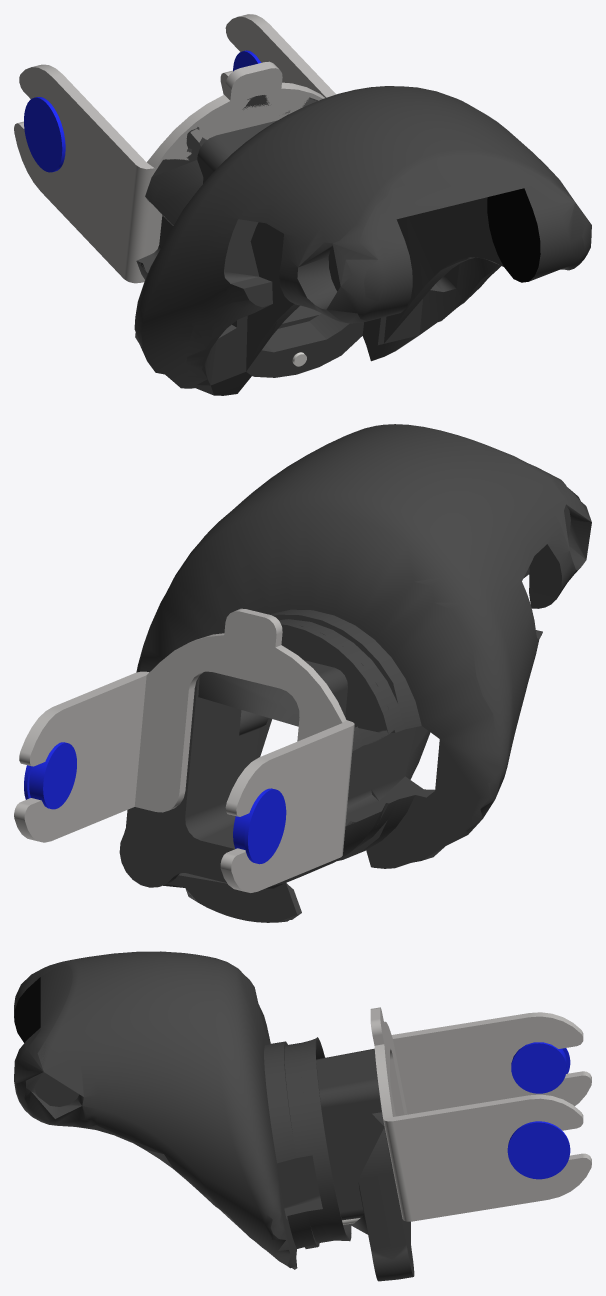
The model's file is r_shoulder_link.dae.
The picture shows the model from 3 angles, top to bottom: view 1: azimuth 30°, elevation 25°; view 2: azimuth 150°, elevation 25°; view 3: azimuth 270°, elevation 25°; orthographic projection. The views are drawn at different scales.
Parts seen in each view (by area): view 1: FBXASC227FBXASC130FBXASC189FBXASC227FBXASC131FBXASC170FBXASC (×4); view 2: FBXASC227FBXASC130FBXASC189FBXASC227FBXASC131FBXASC170FBXASC (×5); view 3: FBXASC227FBXASC130FBXASC189FBXASC227FBXASC131FBXASC170FBXASC (×5).
Boxes of the visible parts, box(x1,y1,x2,y2) form: FBXASC227FBXASC130FBXASC189FBXASC227FBXASC131FBXASC170FBXASC (×4): box(14, 14, 591, 395); FBXASC227FBXASC130FBXASC189FBXASC227FBXASC131FBXASC170FBXASC (×5): box(14, 424, 591, 922); FBXASC227FBXASC130FBXASC189FBXASC227FBXASC131FBXASC170FBXASC (×5): box(14, 951, 591, 1281).
Bounding box in the file's own units: 0.0865 × 0.1441 × 0.0791.
